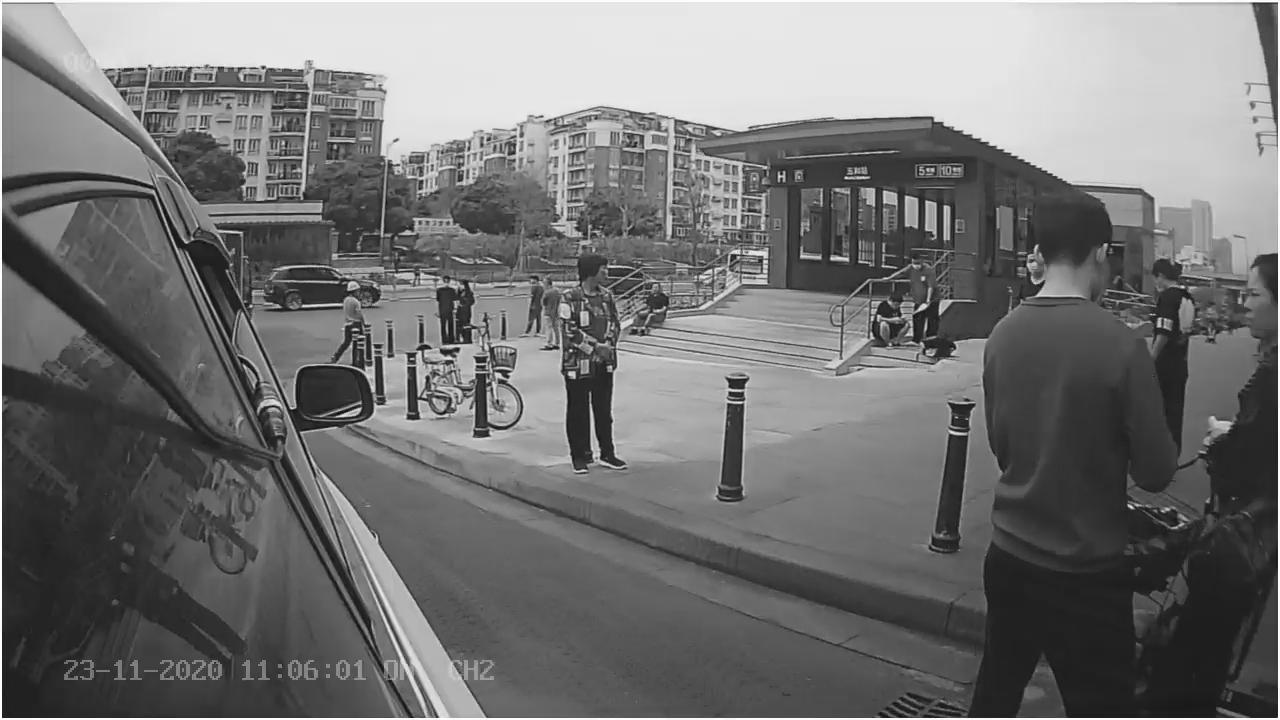person: (548, 249, 630, 479)
